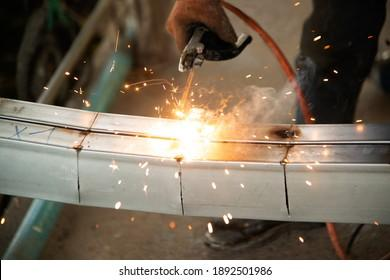gloves: (165, 1, 237, 60)
